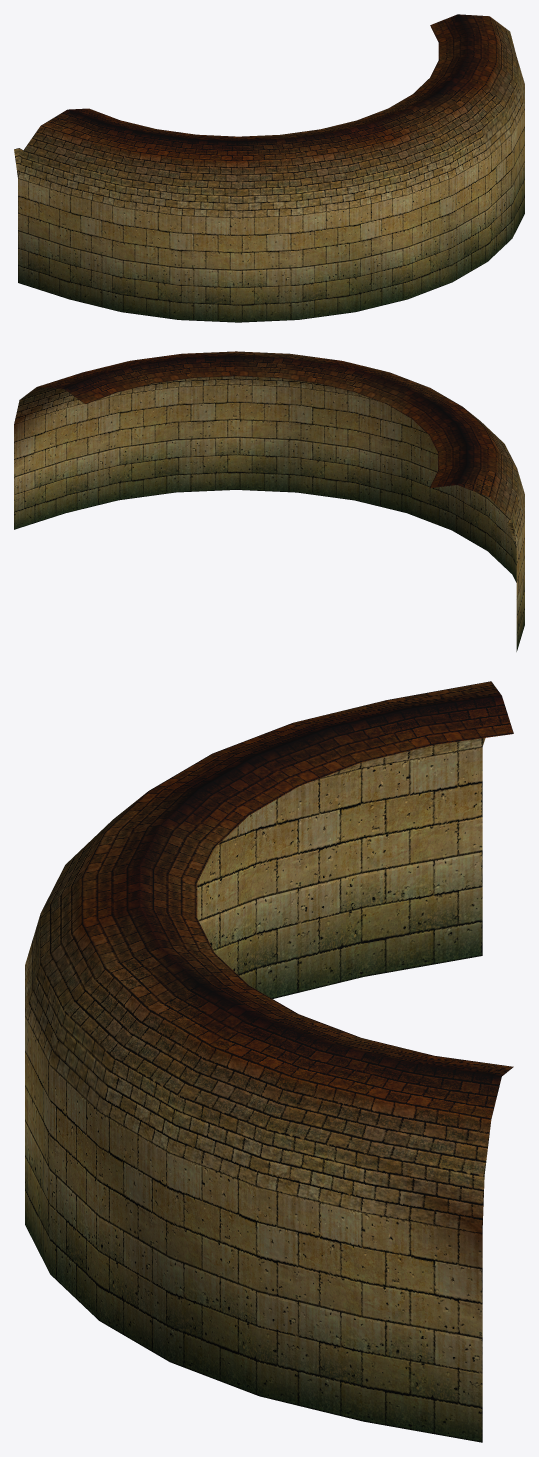
The model's file is Mission12_Sewer02_F.glb.
The picture shows the model from 3 angles, top to bottom: view 1: azimuth 30°, elevation 25°; view 2: azimuth 150°, elevation 25°; view 3: azimuth 270°, elevation 25°; orthographic projection. The views are drawn at different scales.
Parts seen in each view (by area): view 1: MISSION12_SEWER02_F; view 2: MISSION12_SEWER02_F; view 3: MISSION12_SEWER02_F.
Boxes of the visible parts, x1=… form: MISSION12_SEWER02_F: x1=14, y1=14, x2=524, y2=322; MISSION12_SEWER02_F: x1=14, y1=351, x2=524, y2=651; MISSION12_SEWER02_F: x1=25, y1=681, x2=513, y2=1442.
Size of the model in its own units: 20 by 6 by 8.49.
2 materials, 2 textured.
